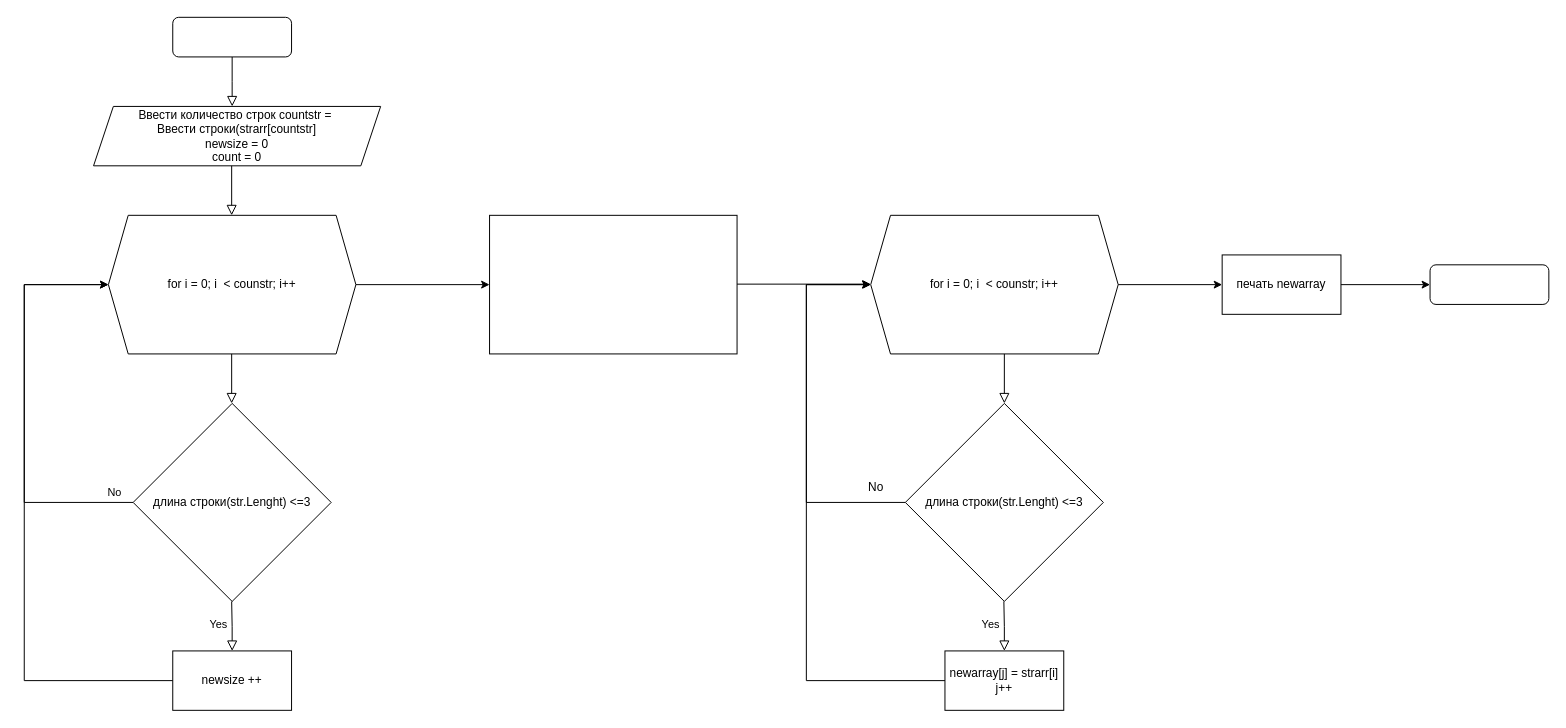
This 1566x728 diagram has some shape labels left out. Here are the shapes that lost their labels. From the top down, the centre of each, then its label:
At [232,36]: "Start".
At [613,284]: "Create newarray[newsize] Создание нового пустого массива строк размером newsize".
At [1489,284]: "Finish".
